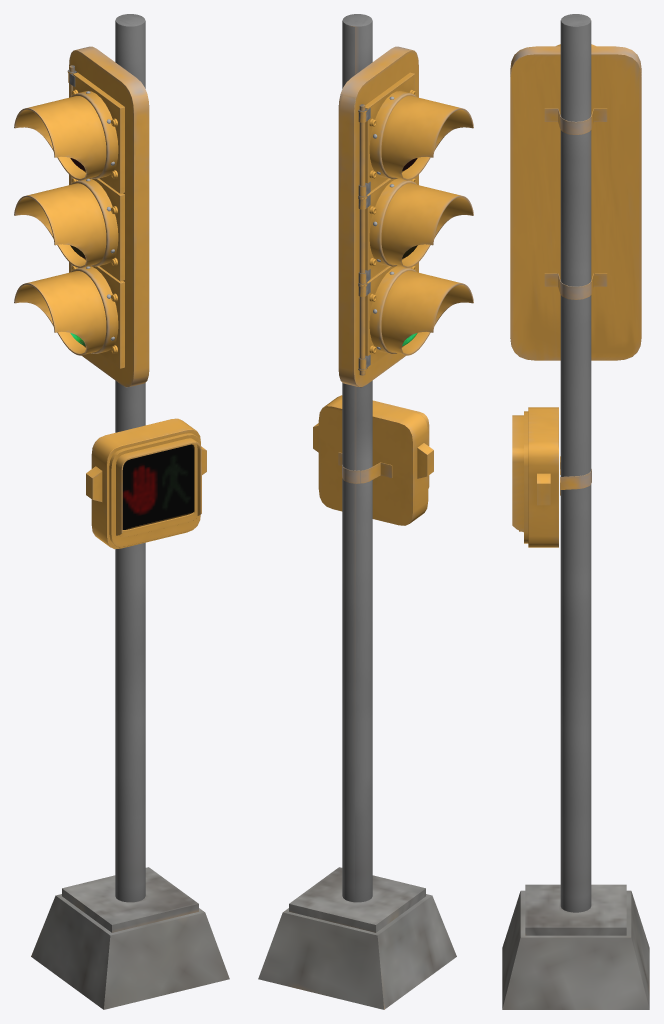
The model's file is sign.glb.
3 views of the same model, side by side, from view 1: azimuth 30°, elevation 25°; view 2: azimuth 150°, elevation 25°; view 3: azimuth 270°, elevation 25° (orthographic).
Parts seen in each view (by area): view 1: LightsB_Material #468_0, LightsA_Material #466_0, LightsD_Material #472_0; view 2: LightsB_Material #468_0, LightsA_Material #466_0, LightsD_Material #472_0; view 3: LightsB_Material #468_0, LightsD_Material #472_0.
Boxes of the visible parts, x1,y1,x2,y2 form: LightsB_Material #468_0: (31,14,229,1009); LightsA_Material #466_0: (14,72,124,368); LightsD_Material #472_0: (86,418,206,549); LightsB_Material #468_0: (258,14,456,1009); LightsA_Material #466_0: (365,72,473,368); LightsD_Material #472_0: (313,395,433,525); LightsB_Material #468_0: (502,14,649,1009); LightsD_Material #472_0: (512,407,558,547).
Size of the model in its own units: 2.08 by 11.88 by 1.65.
Materials: 4 (4 with a texture image).
